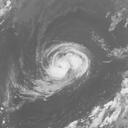cyclone: (41, 40, 93, 86)
